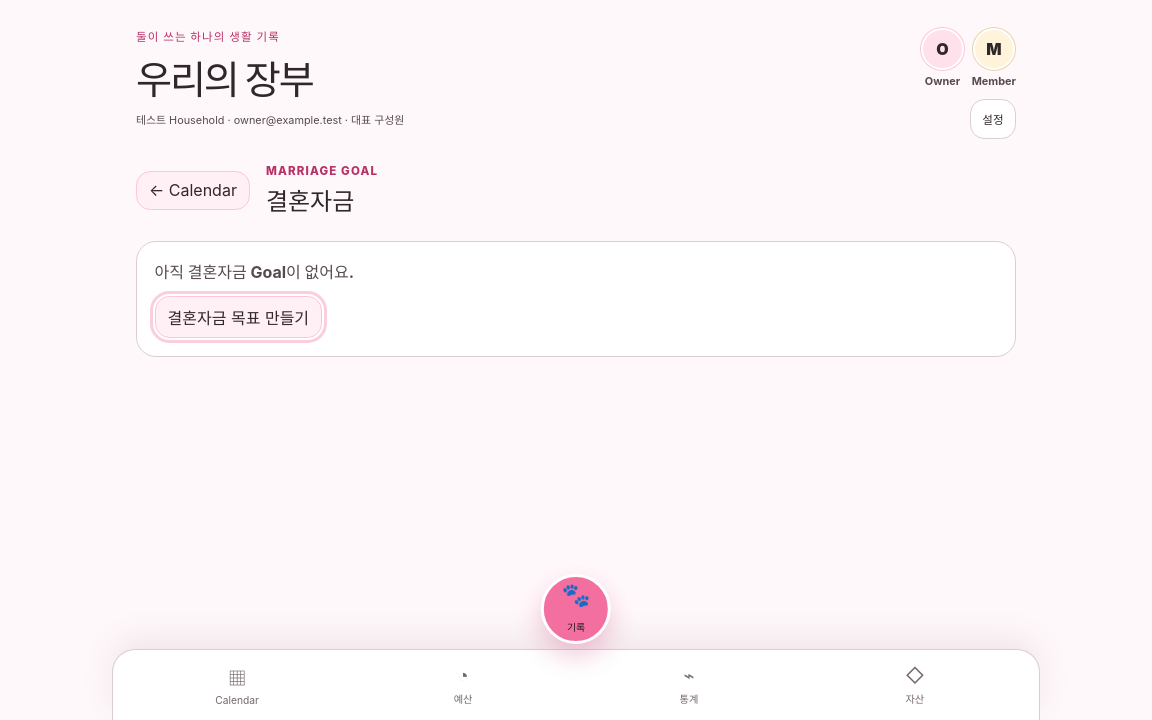
App › moves focus to the Goal detail edit action after creating from the detail empty state
Click the button "결혼자금 목표 만들기".
click(238, 317)  # box [155,296,322,338]
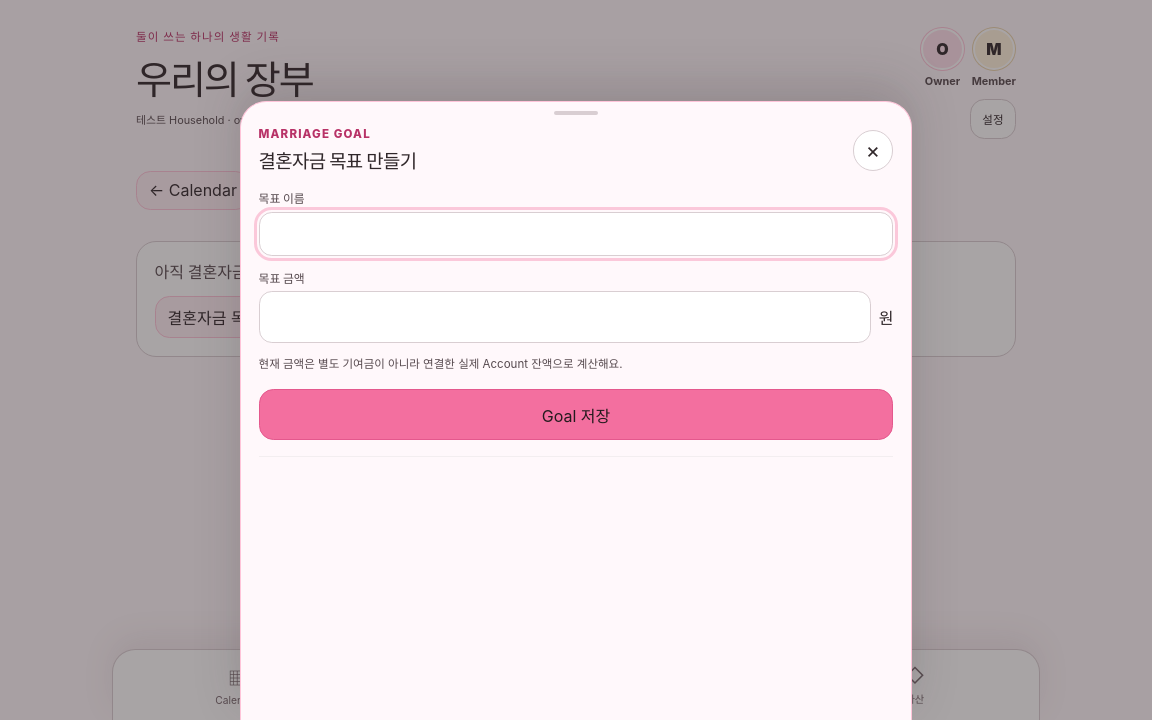
Type "상세에서 만든 목표" into the field labelled "목표 이름".
click(576, 234); type("상세에서 만든 목표")  # box [259,212,893,256]
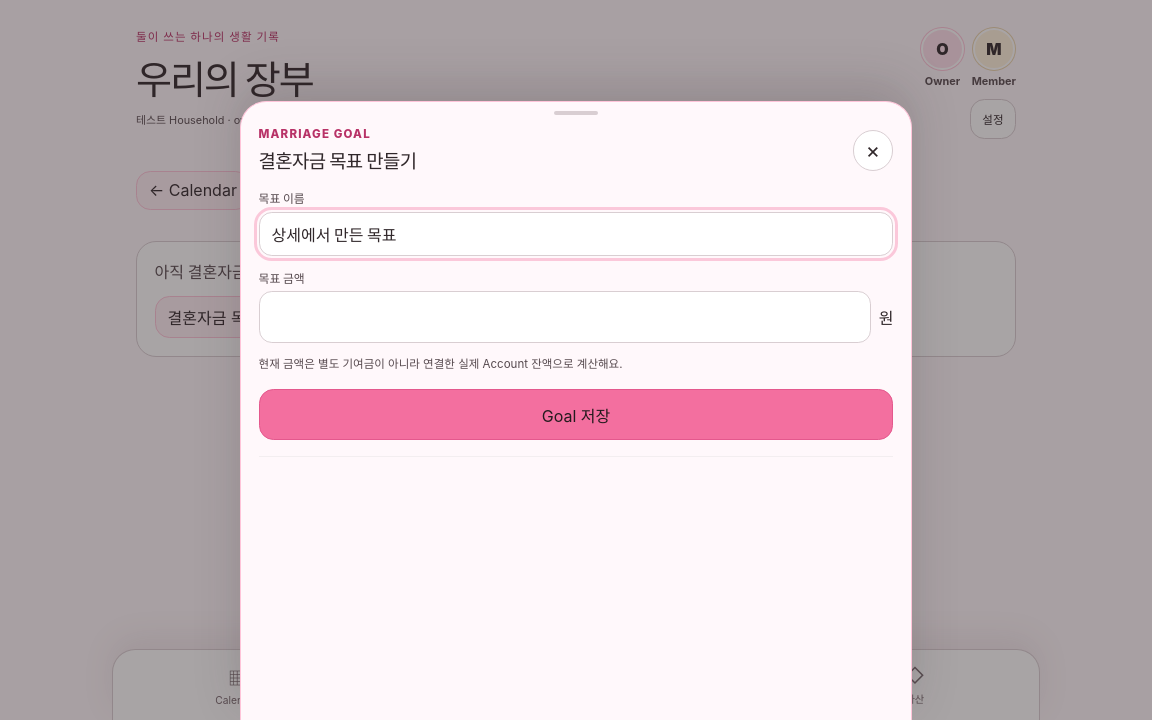
Type "80000000" into the field labelled "목표 금액".
click(565, 317); type("80000000")  # box [259,291,871,343]
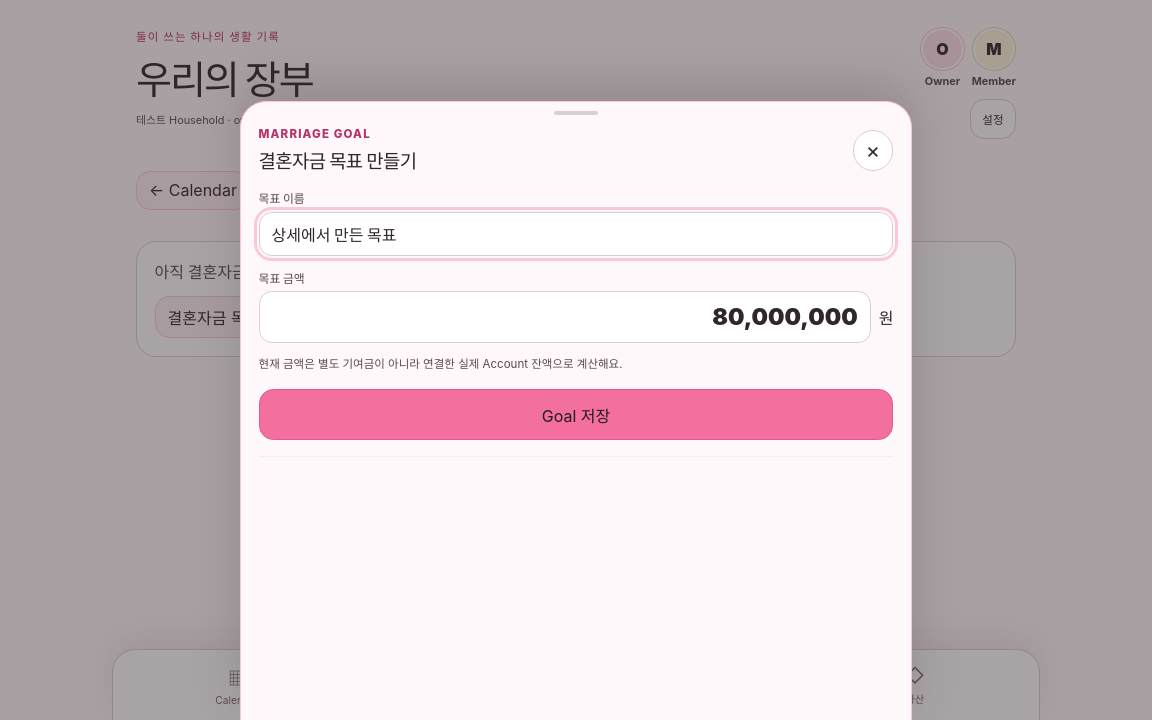
Click the button "Goal 저장".
click(576, 415)  # box [259,389,893,440]
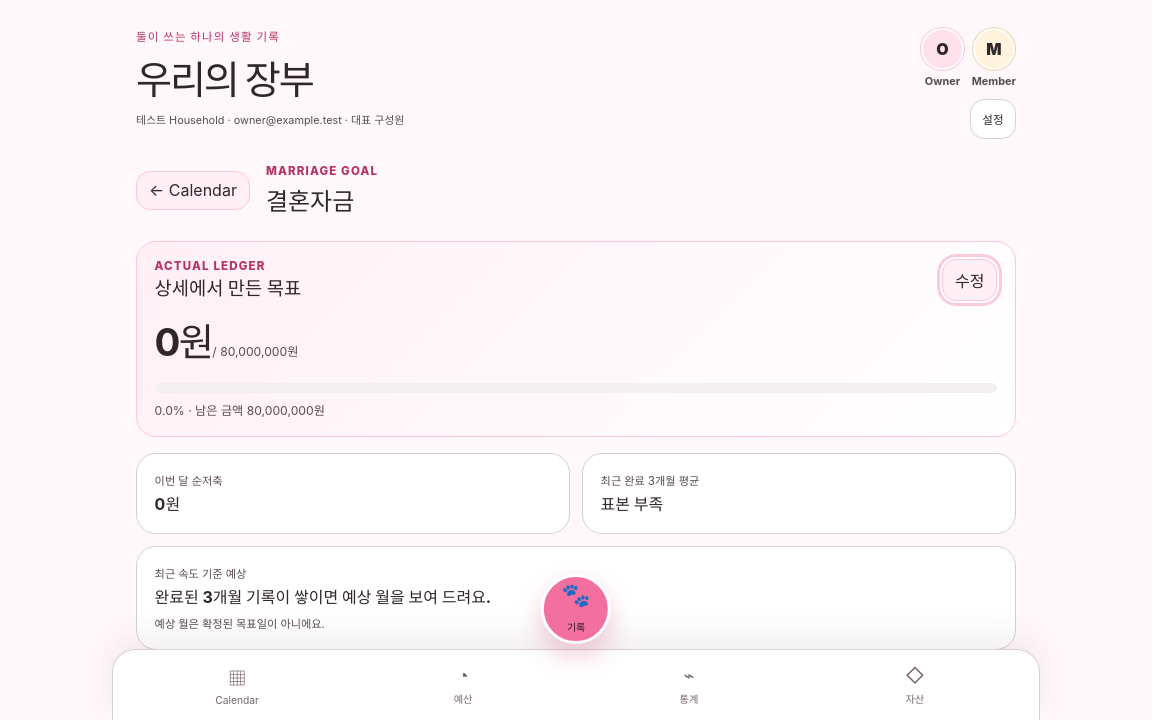
Expected: the dialog is gone
